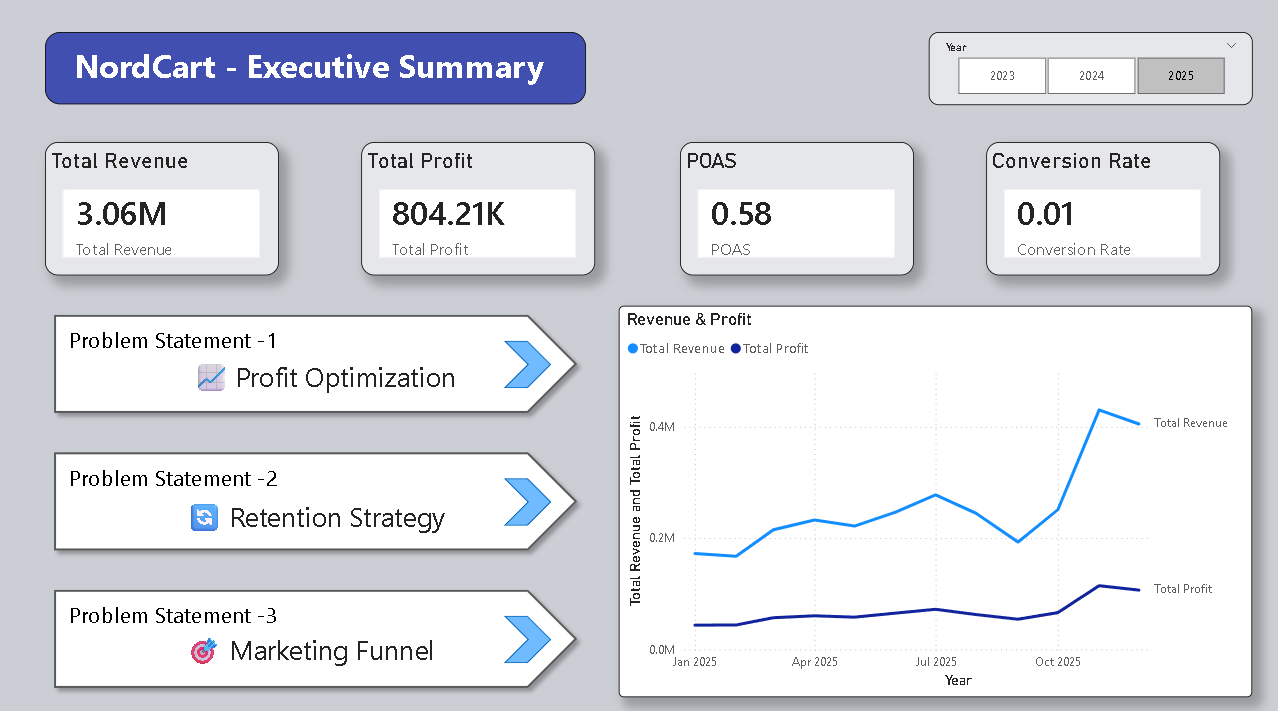

What the dashboard file says about the page in this screenshot:
{"tool":"powerbi","page":{"name":"Home","canvas":[1280,720],"ordinal":0},"visuals":[{"type":"textbox","box":[0,0,565.4,91.9],"z":0},{"type":"shape","box":[0,0,1280,720],"z":1000},{"type":"textbox","box":[49.8,39.8,538.6,72.1],"z":2000},{"type":"cardVisual","title":"Total Revenue","fields":{"Data":["Measures (2).Total Revenue"]},"box":[49.8,149.3,232.6,133.1],"z":3000},{"type":"slicer","fields":{"Values":["v_dim_date.Year"]},"box":[928.8,40,322.5,72.5],"z":4000},{"type":"cardVisual","title":"Total Profit","fields":{"Data":["Measures (2).Total Profit"]},"box":[364.5,149.3,232.6,133.1],"z":5000},{"type":"cardVisual","title":"POAS","fields":{"Data":["Measures (2).POAS"]},"box":[681.7,149.3,232.6,133.1],"z":6000},{"type":"cardVisual","title":"Conversion Rate","fields":{"Data":["Measures (2).Conversion Rate"]},"box":[986.5,149.3,232.6,133.1],"z":7000},{"type":"lineChart","title":"Revenue & Profit","fields":{"Y":["Measures (2).Total Revenue","Measures (2).Total Profit"],"Category":["v_dim_date.Date.Variation.Date Hierarchy.Year","v_dim_date.Date.Variation.Date Hierarchy.Quarter","v_dim_date.Date.Variation.Date Hierarchy.Month","v_dim_date.Date.Variation.Date Hierarchy.Day"]},"box":[620.7,312.2,630.7,389.4],"z":8000},{"type":"shape","box":[49.8,312.2,538.6,115.7],"z":9000},{"type":"textbox","box":[191.6,359.5,289.8,52.2],"z":10000},{"type":"shape","box":[49.8,449.1,538.6,115.7],"z":11000},{"type":"textbox","box":[185.3,498.8,289.8,52.2],"z":12000},{"type":"shape","box":[49.8,585.9,538.6,115.7],"z":13000},{"type":"textbox","box":[185.7,631.3,289.8,52.2],"z":14000},{"type":"shape","box":[506.3,347.1,47.3,47.3],"z":15000},{"type":"shape","box":[506.3,483.9,47.3,47.3],"z":16000},{"type":"shape","box":[506.3,620.7,47.3,47.3],"z":17000}]}

Visuals, with their boxes in screenshot pixels (x1, y1, x2, y2), scaled from the page's 1280x720 canvas onto the 1278x711 screenshot:
textbox: <region>0, 0, 565, 91</region>
shape: <region>0, 0, 1277, 710</region>
textbox: <region>50, 39, 587, 111</region>
"Total Revenue" cardVisual: <region>50, 147, 282, 279</region>
slicer - v_dim_date.Year: <region>927, 40, 1249, 111</region>
"Total Profit" cardVisual: <region>364, 147, 596, 279</region>
"POAS" cardVisual: <region>681, 147, 913, 279</region>
"Conversion Rate" cardVisual: <region>985, 147, 1217, 279</region>
"Revenue & Profit" lineChart: <region>620, 308, 1249, 693</region>
shape: <region>50, 308, 587, 423</region>
textbox: <region>191, 355, 481, 407</region>
shape: <region>50, 443, 587, 558</region>
textbox: <region>185, 493, 474, 544</region>
shape: <region>50, 579, 587, 693</region>
textbox: <region>185, 623, 475, 675</region>
shape: <region>506, 343, 553, 389</region>
shape: <region>506, 478, 553, 525</region>
shape: <region>506, 613, 553, 660</region>
